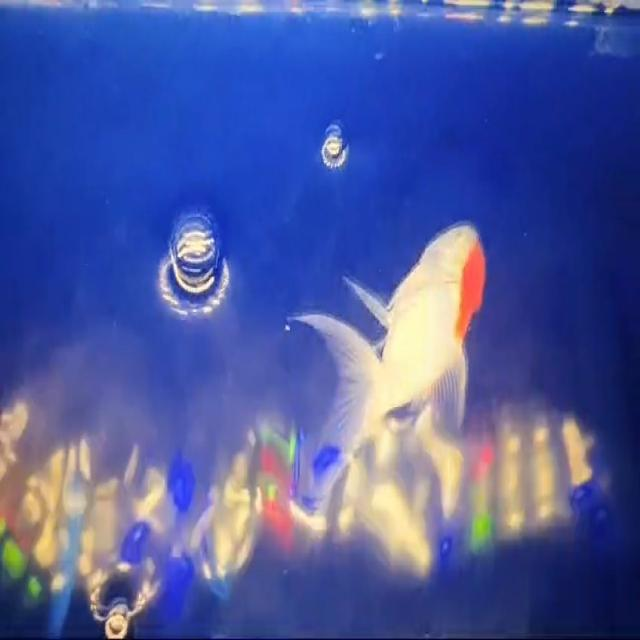fish: (282, 216, 496, 480)
